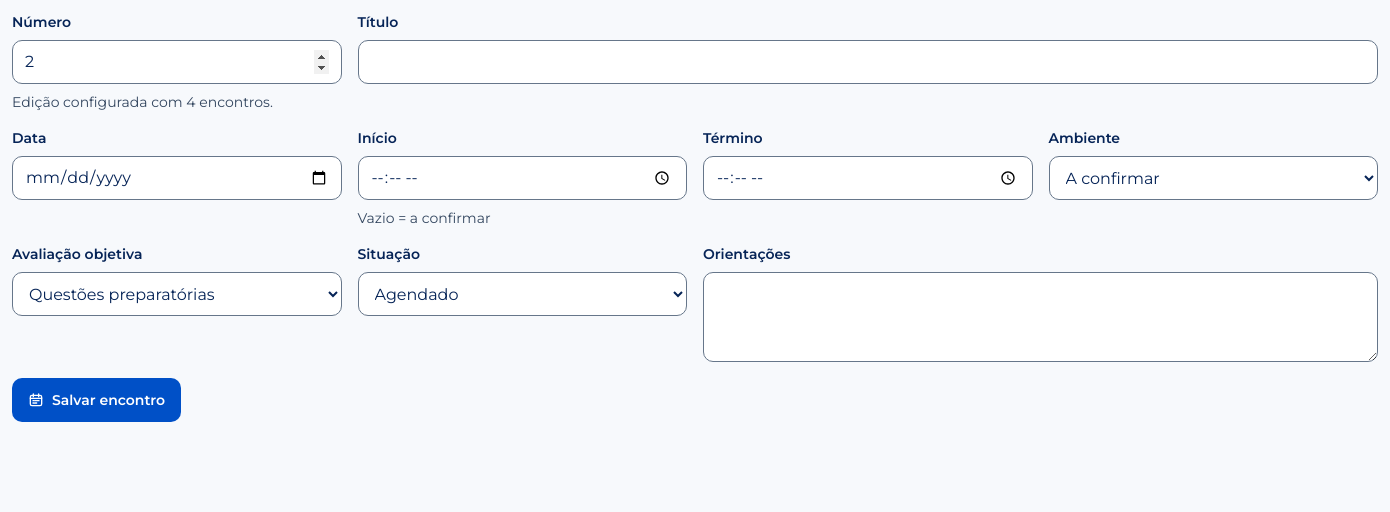
Test: FormEncontro (US4) › recusa número acima do configurado na edição
Step 1. Replace the text in the number field labelled "Número" with "5" → (177, 62), box [12,40,342,84]
Step 2. Type "Encontro de teste" into the field labelled "Título" → (868, 62), box [358,40,1378,84]
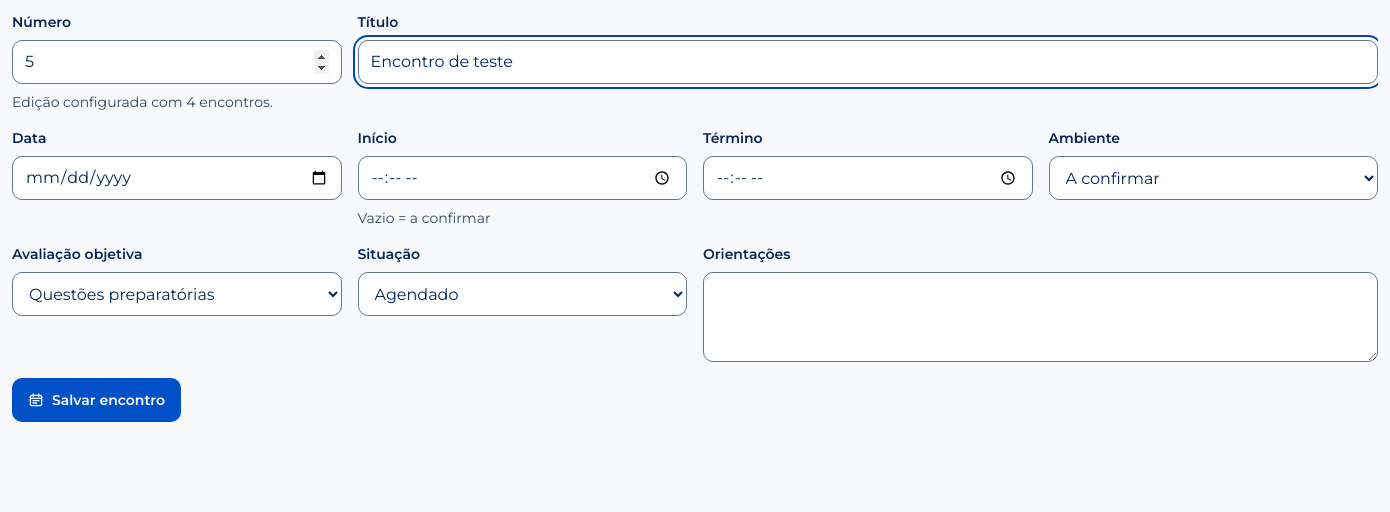
Step 3. Type "2026-11-12" into the date field labelled "Data" → (177, 178), box [12,156,342,200]
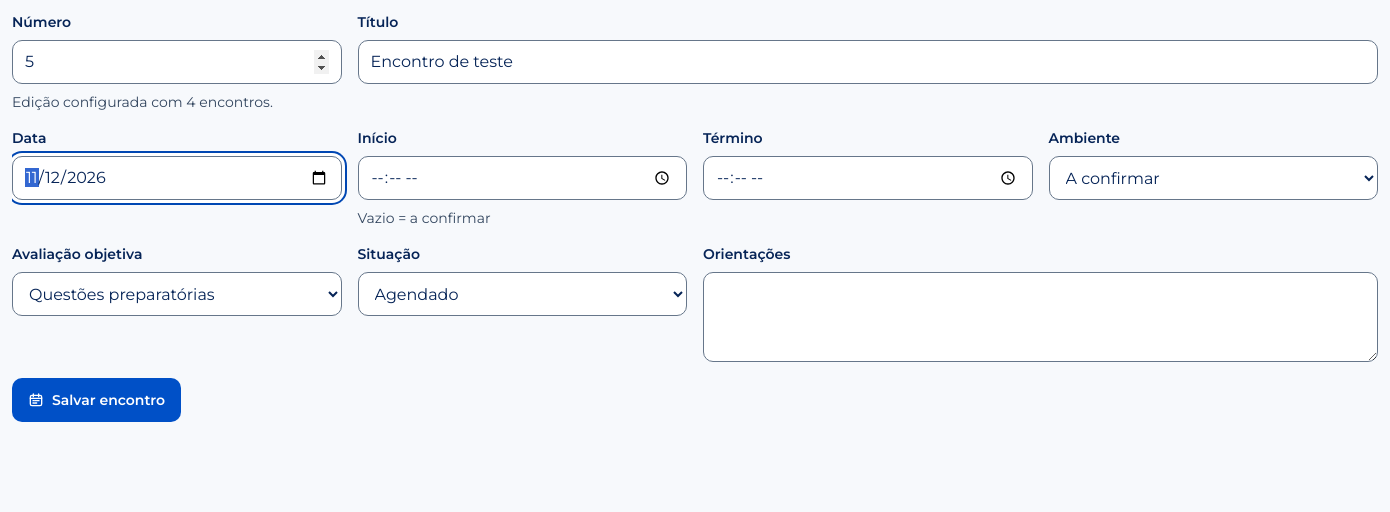
Step 4. Type "13:30" into the time field labelled "Início" → (522, 178), box [358,156,687,200]
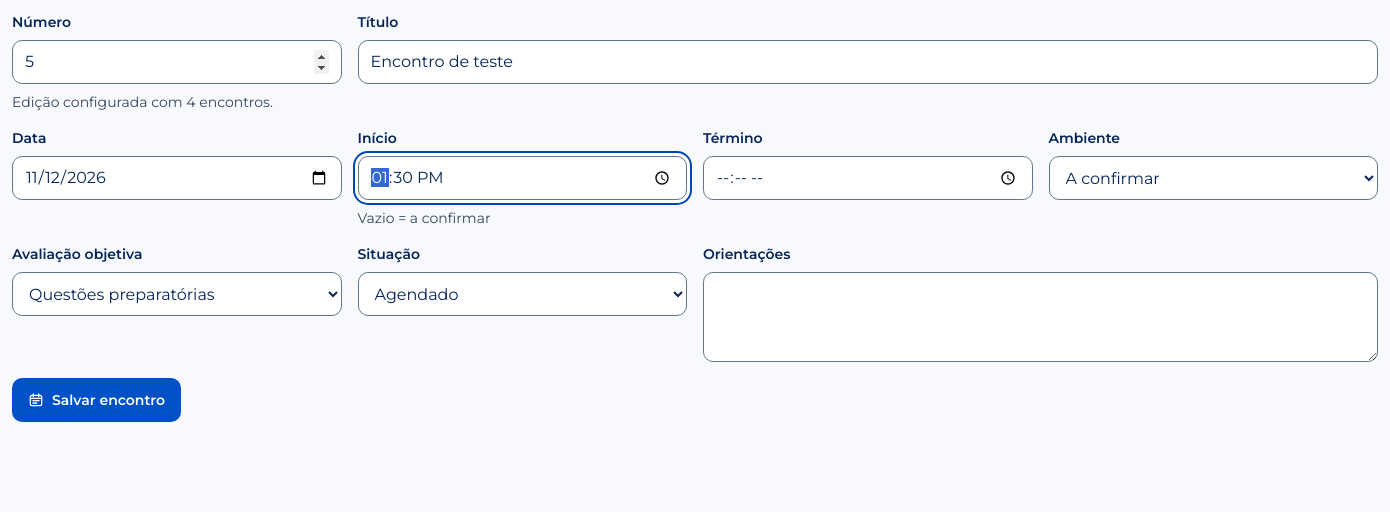
Step 5. Type "17:00" into the time field labelled "Término" → (868, 178), box [703,156,1032,200]
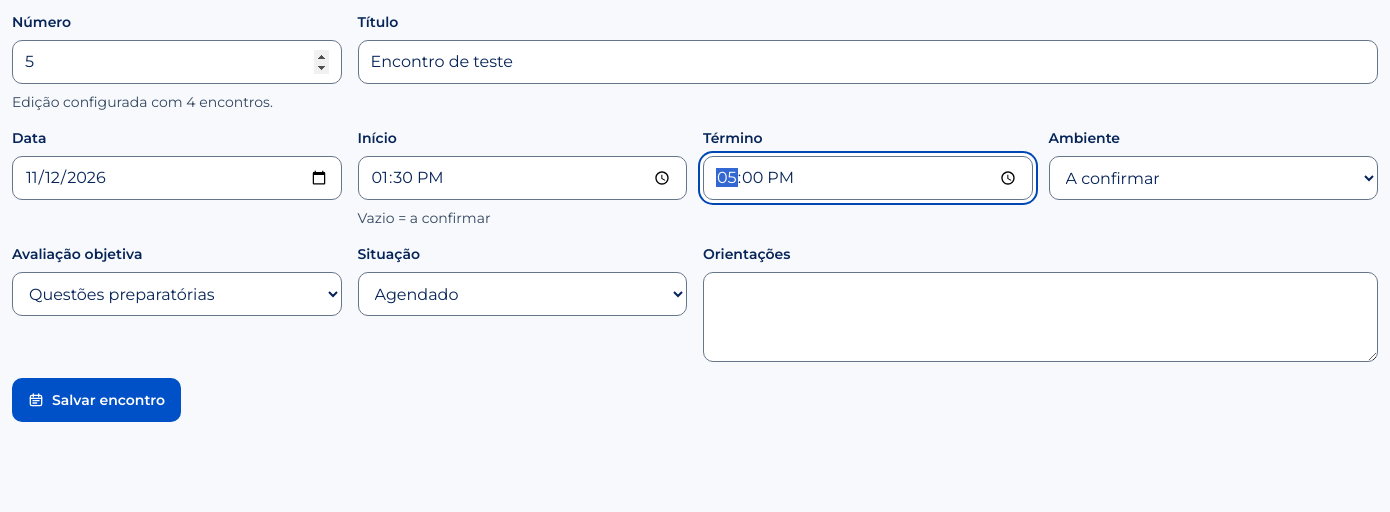
Step 6. Select "Laboratório 1" in the dropdown labelled "Ambiente" → (1213, 178), box [1048,156,1378,200]
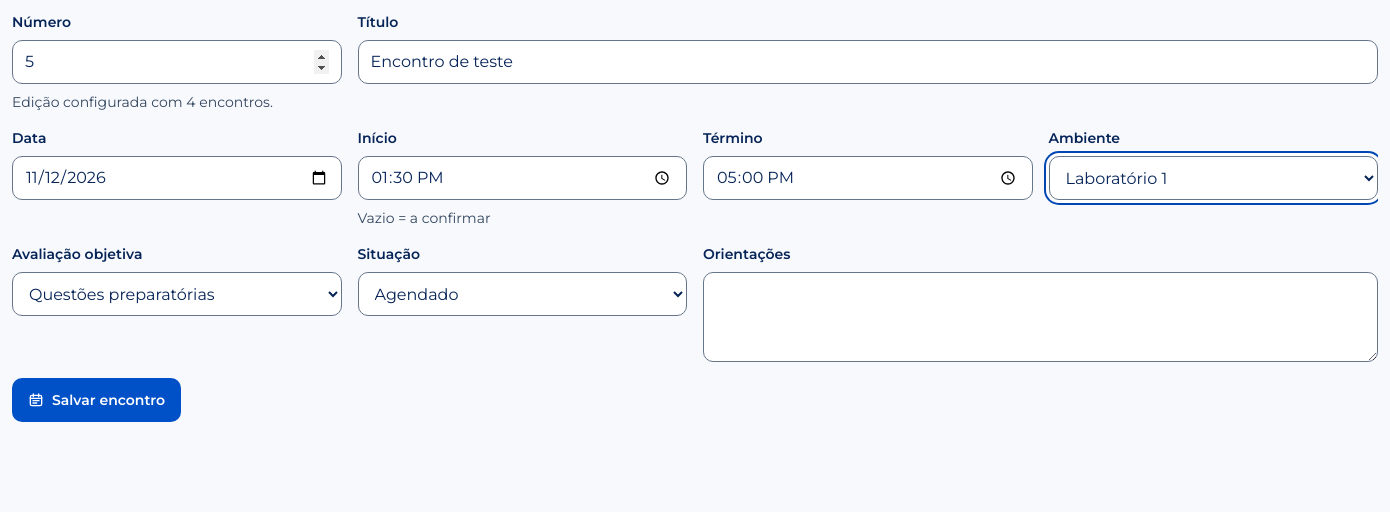
Step 7. Click the button "Salvar encontro" → (97, 400), box [12,378,181,422]
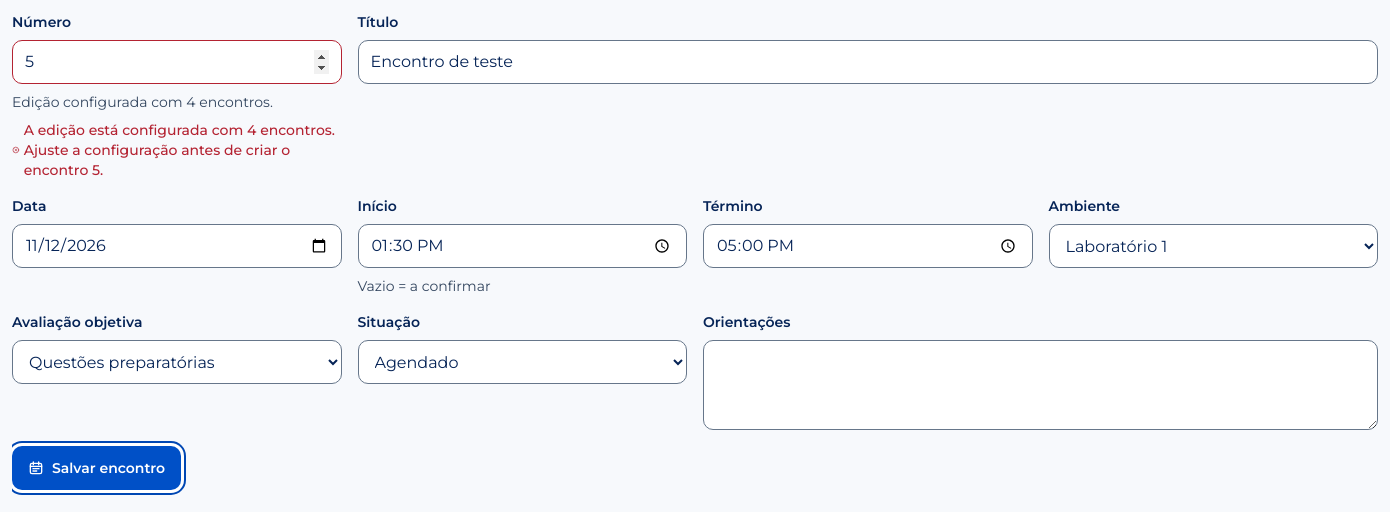
Now the text "Ajuste a configuração antes de criar o encontro 5" is shown, box [24,121,335,179]
